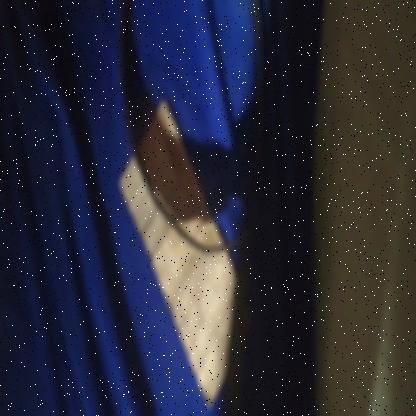five-back-vef: (119, 99, 236, 411)
